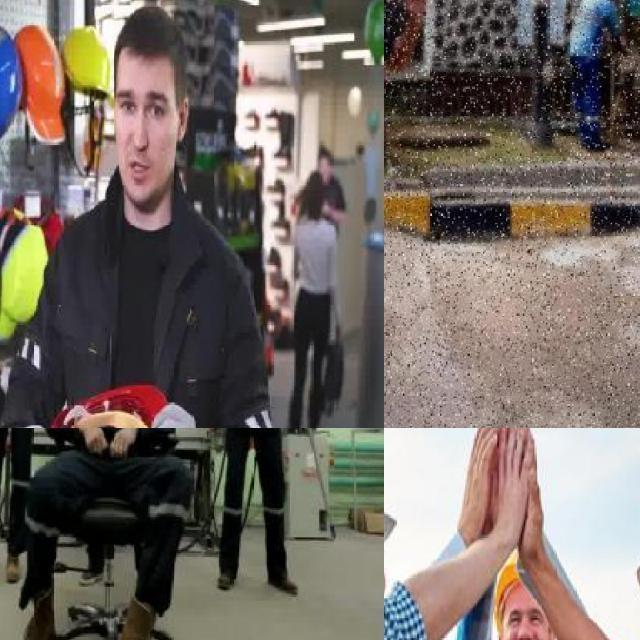apron: (147, 400, 204, 428)
